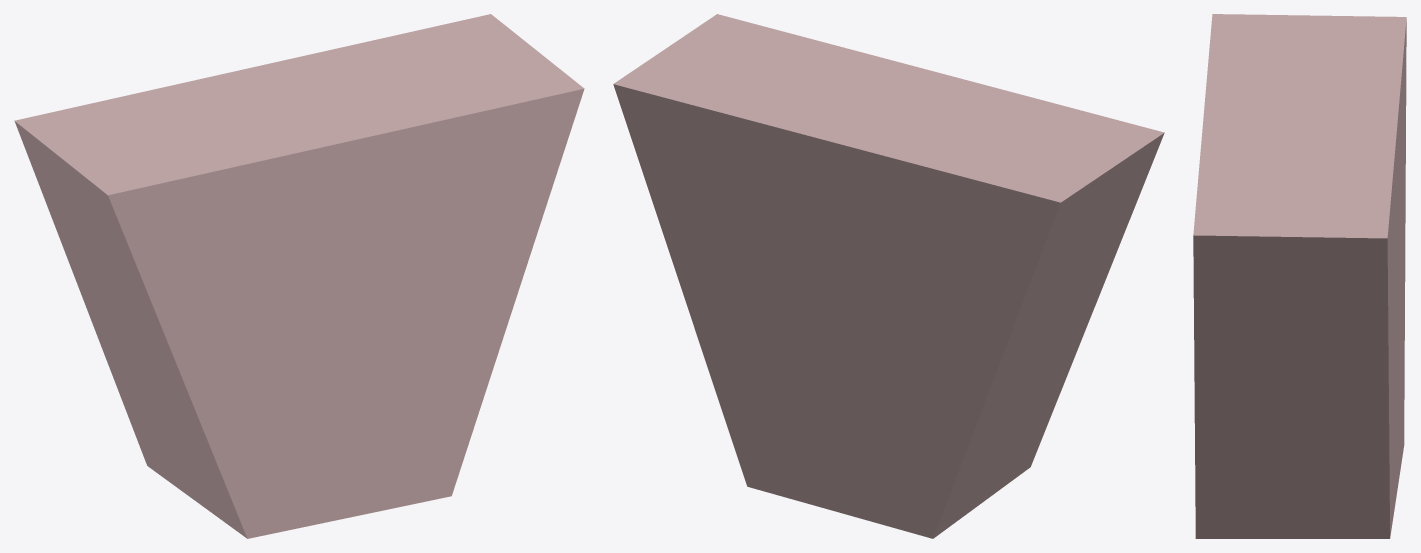
File: for sword2.fbx
The picture shows the model from 3 angles, left to right: view 1: azimuth 30°, elevation 25°; view 2: azimuth 150°, elevation 25°; view 3: azimuth 270°, elevation 25°; orthographic projection. The views are drawn at different scales.
Visible parts, largest first — view 1: Cube.037; view 2: Cube.037; view 3: Cube.037.
Boxes of the visible parts, <box> form: Cube.037: <box>14,14,584,538</box>; Cube.037: <box>613,14,1164,538</box>; Cube.037: <box>1193,14,1406,538</box>.
Size of the model in its own units: 126 by 96.1 by 50.78.
